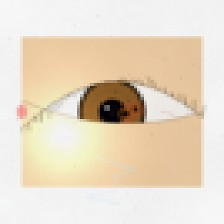foreign_body_visible: (76, 128, 102, 149)
